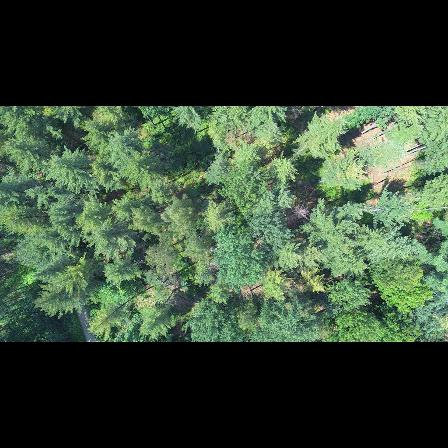Dead: (287, 203, 315, 222)
